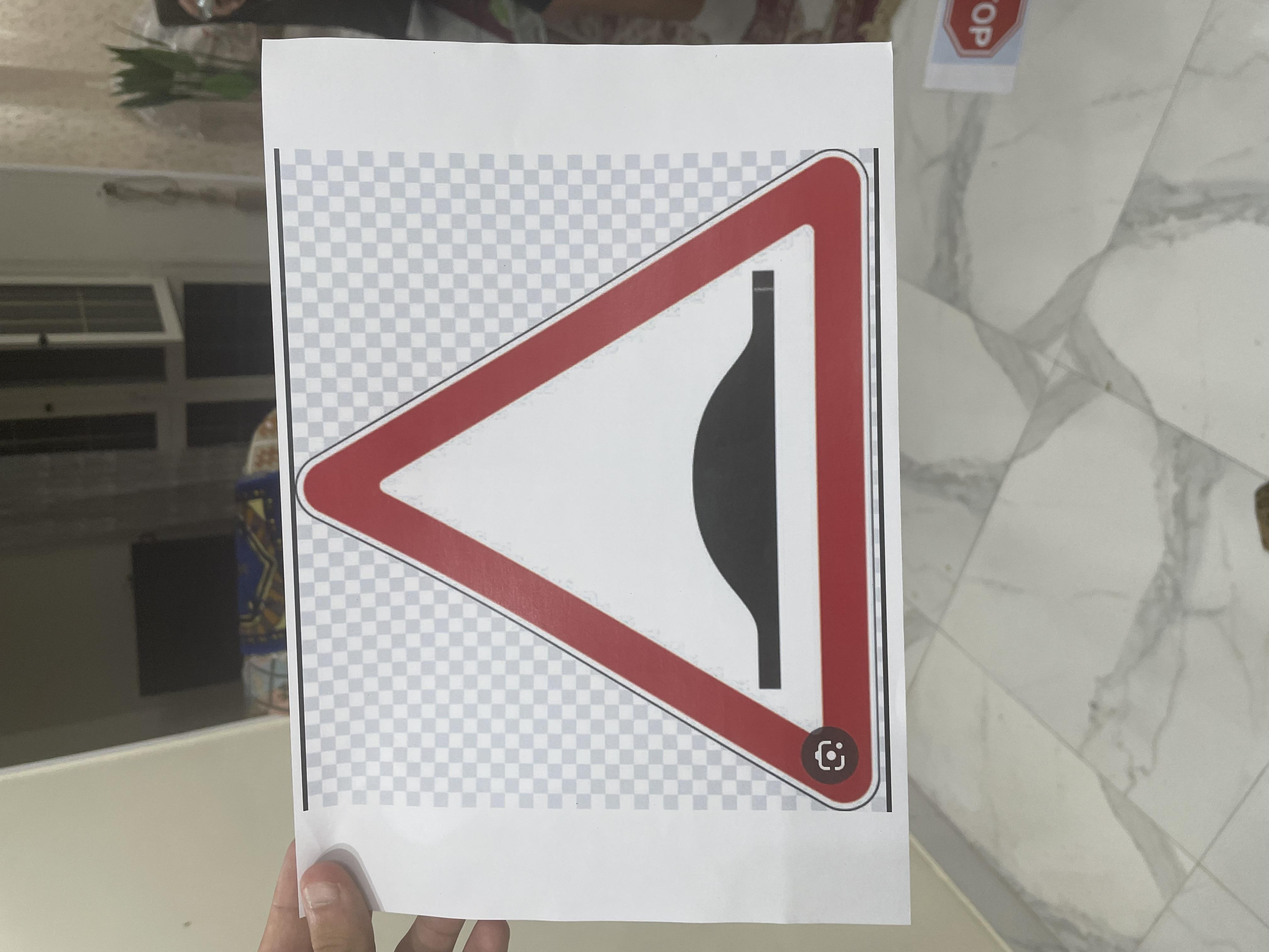Hump: (170, 227, 1084, 676)
